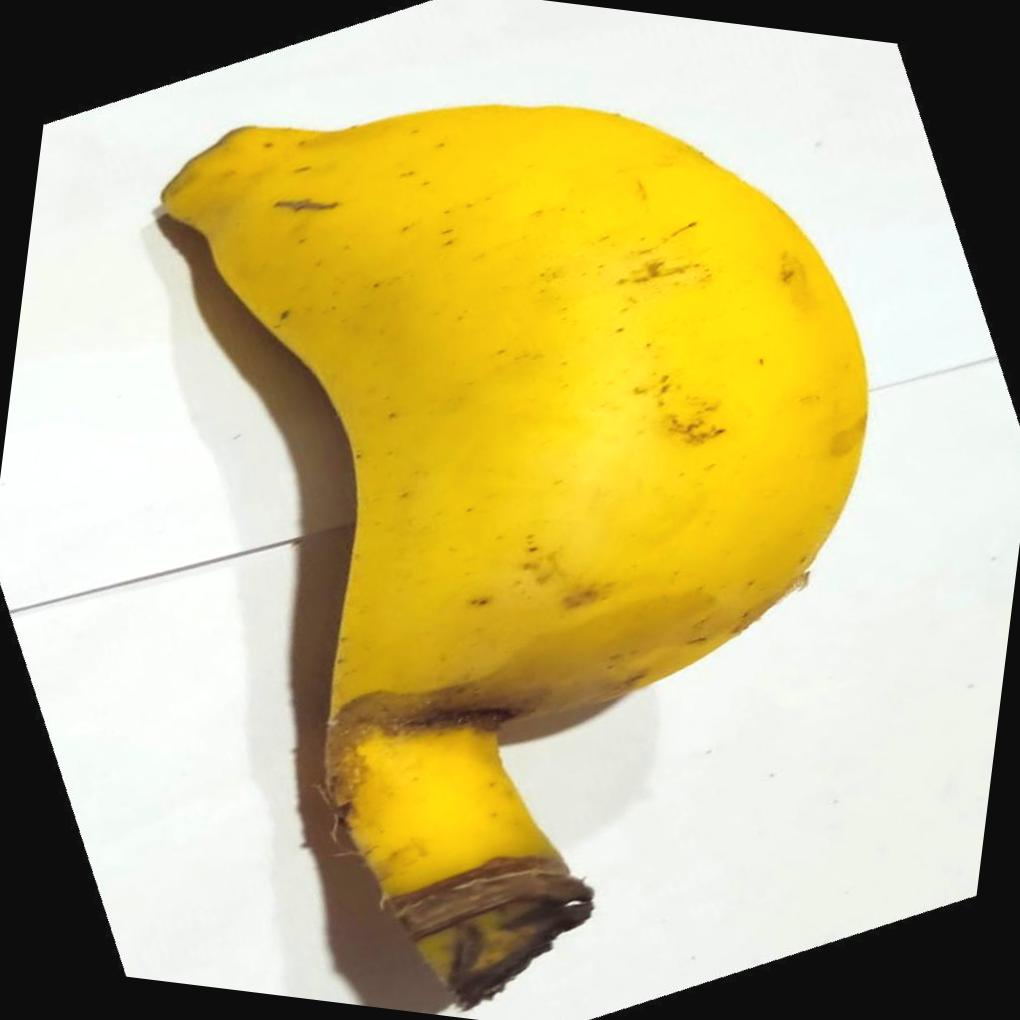Banana Ripe: (45, 56, 921, 1020)
